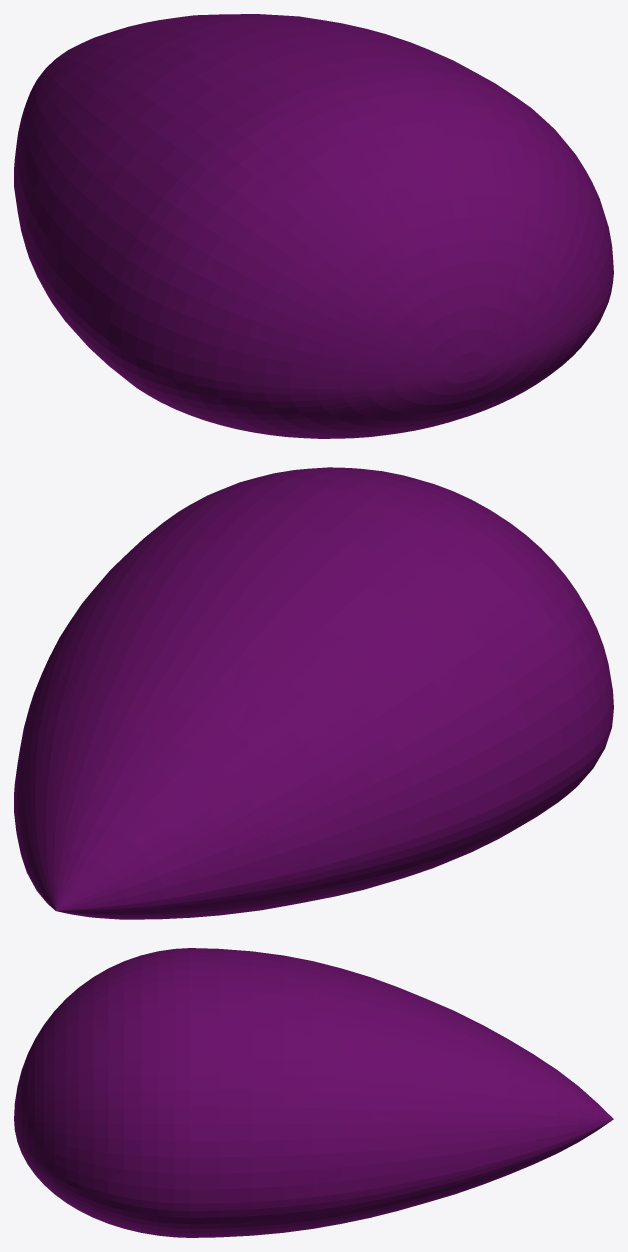
The model's file is UserMarker.dae.
3 views of the same model, one above another, from view 1: azimuth 30°, elevation 25°; view 2: azimuth 150°, elevation 25°; view 3: azimuth 270°, elevation 25° (orthographic). The views are drawn at different scales.
Visible parts, largest first — view 1: Sphere; view 2: Sphere; view 3: Sphere.
Part boxes in pixels (left/top/right/bottom): Sphere: left=14, top=14, right=613, bottom=438; Sphere: left=14, top=467, right=613, bottom=919; Sphere: left=14, top=948, right=613, bottom=1237.
Bounding box in the file's own units: 1.62 × 2.44 × 1.04.
